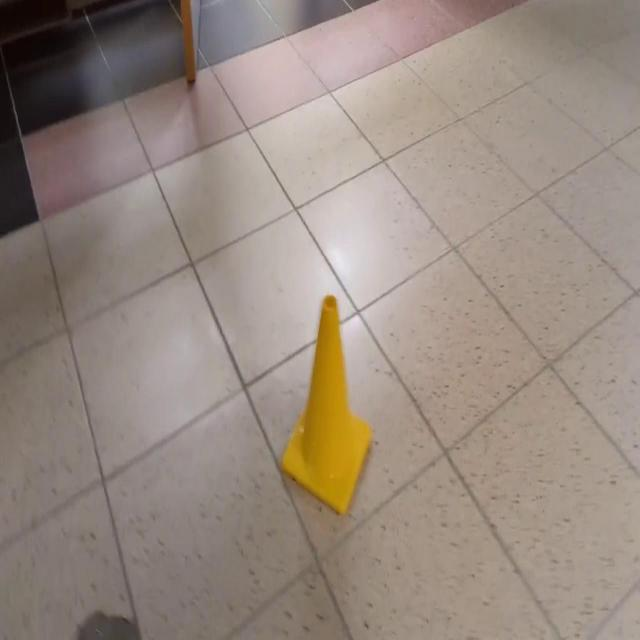frc_cone: (280, 294, 372, 516)
